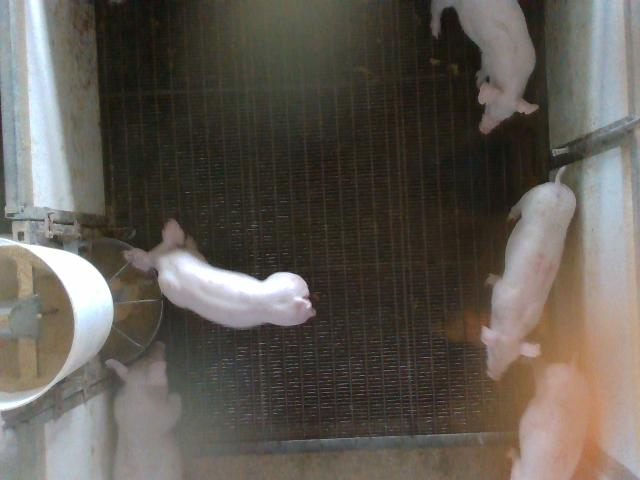pig-4: (481, 169, 576, 379)
